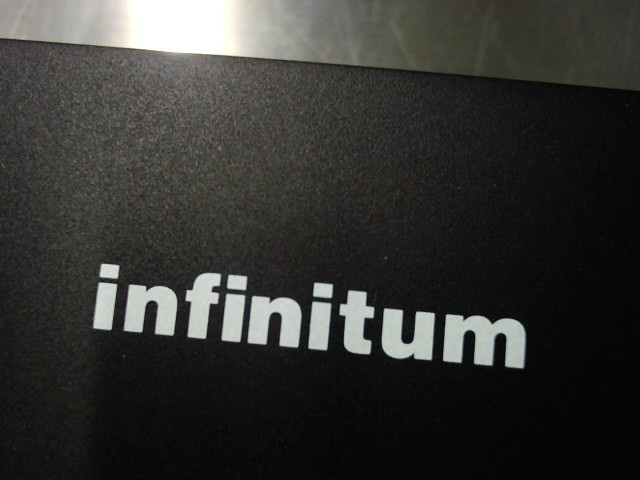BK_infinitum: (82, 245, 534, 374)
